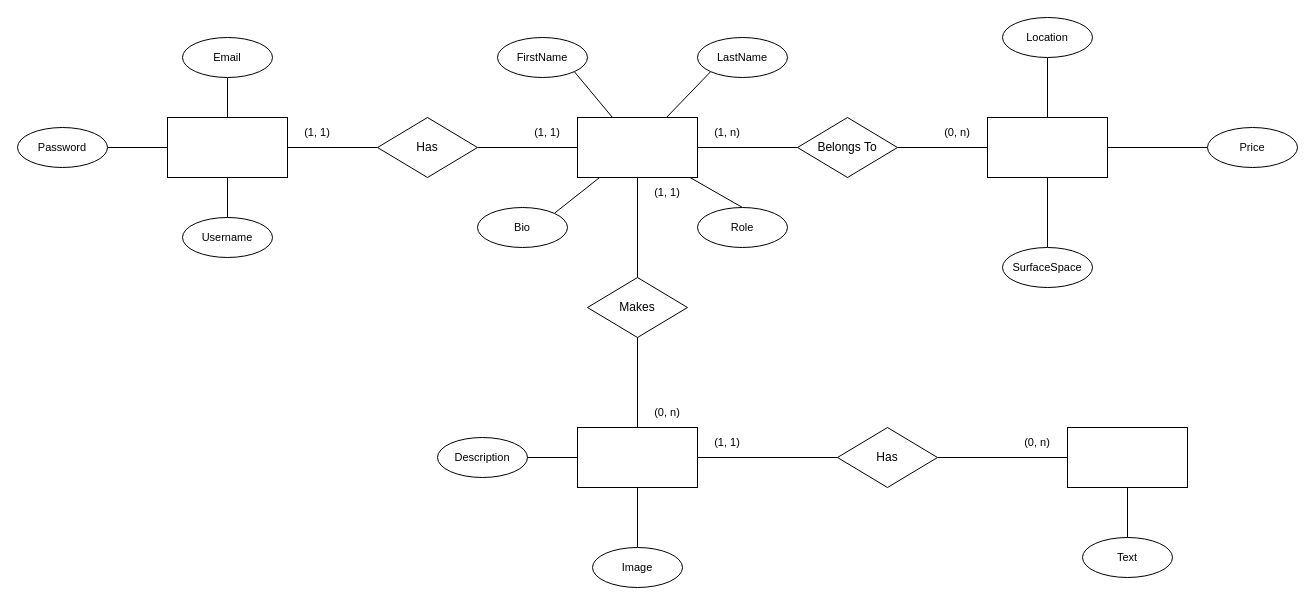
The diagram is 1315 pixels wide and 605 high, and some of its shapes have lost their labels. Here are the shapes that lost their labels. From the top down, the centre of each, then its label:
(227,147): User
(637,147): Profile
(1047,147): Kot
(637,457): Post
(1127,457): Comment
